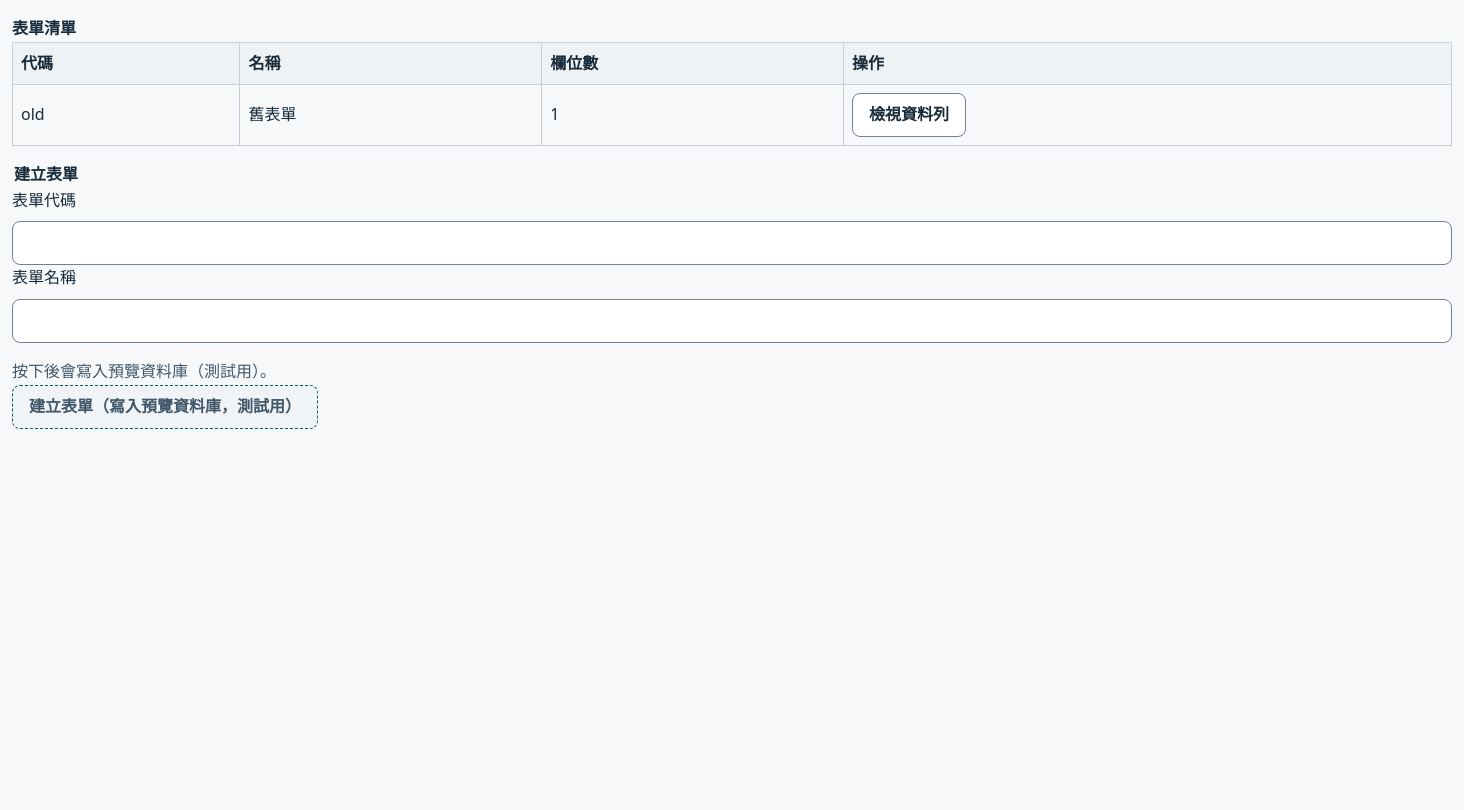
Test: live screens › lists forms, creates one only on the button, and shows its records as plain text
Expected: the text "舊表單" is shown, [240,85,542,146]
Click the button with aria-label "檢視資料列：舊表單": (909, 115) [852,93,966,137]
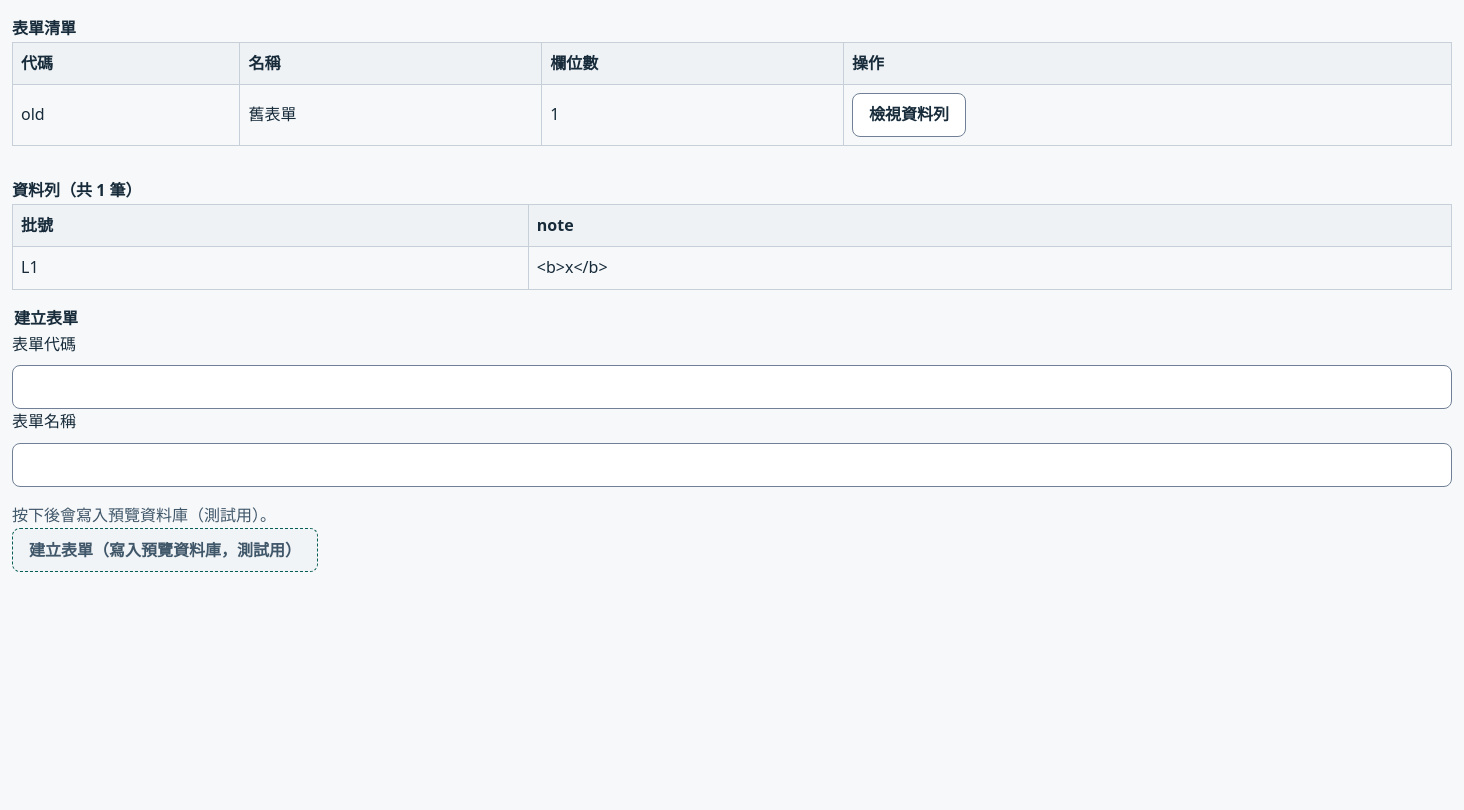
Now the text "<b>x</b>" is shown, box [528,247,1452,290]
In the field labelled "表單代碼": (732, 387) [12,365,1452,409], type "new"
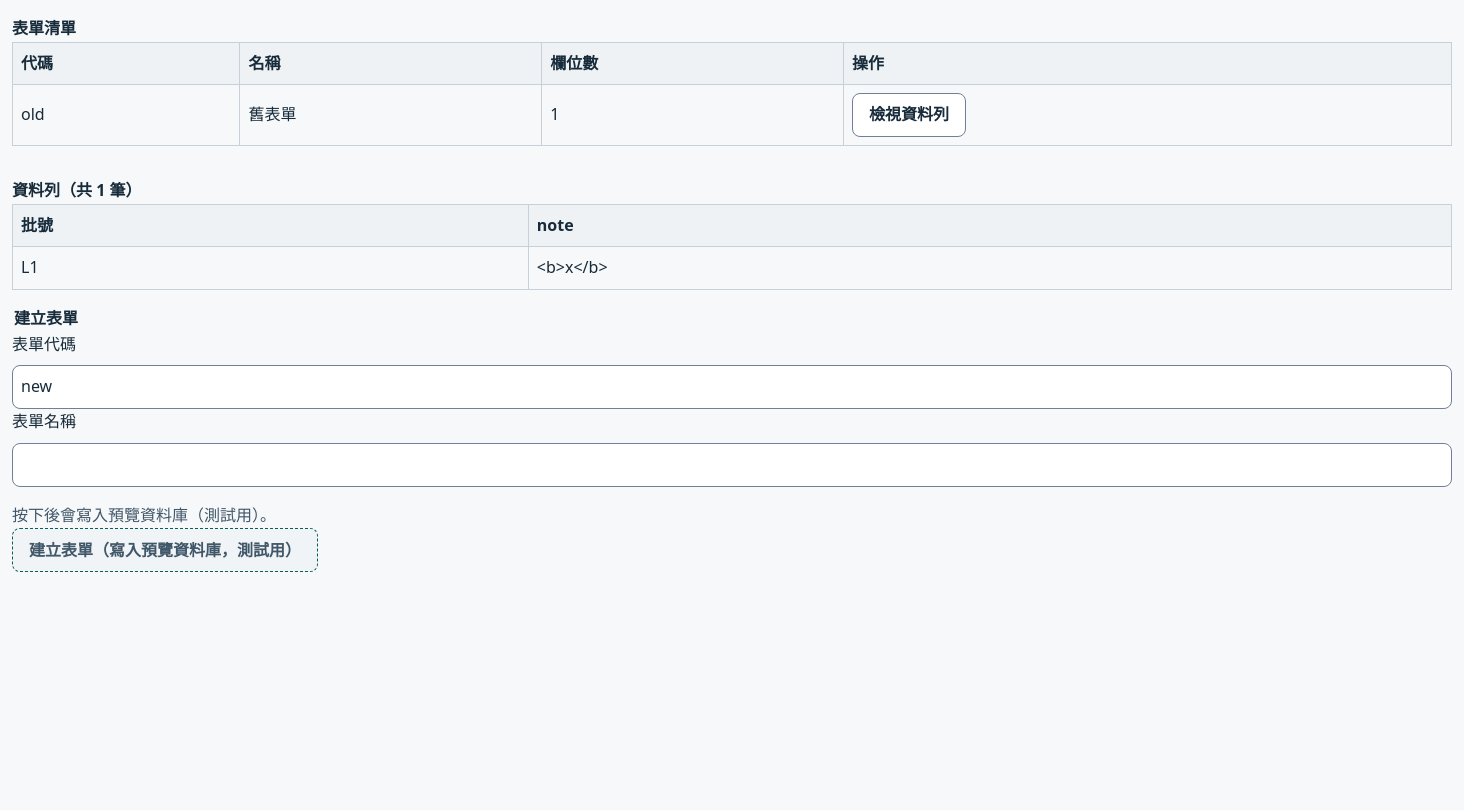
In the field labelled "表單名稱": (732, 465) [12,443,1452,487], type "新表單"
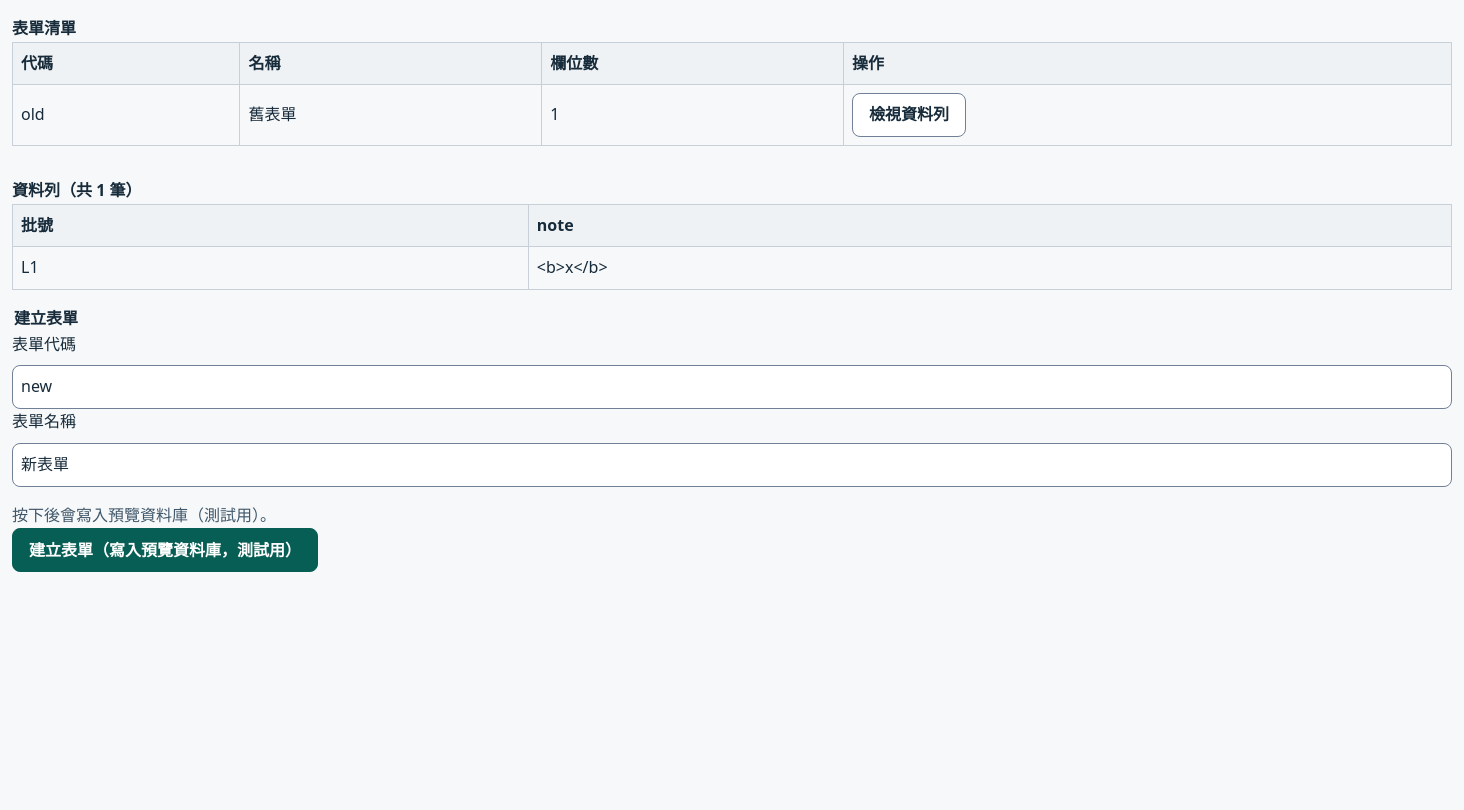
Click the button "建立表單（寫入預覽資料庫，測試用）": (165, 550) [12,528,318,572]
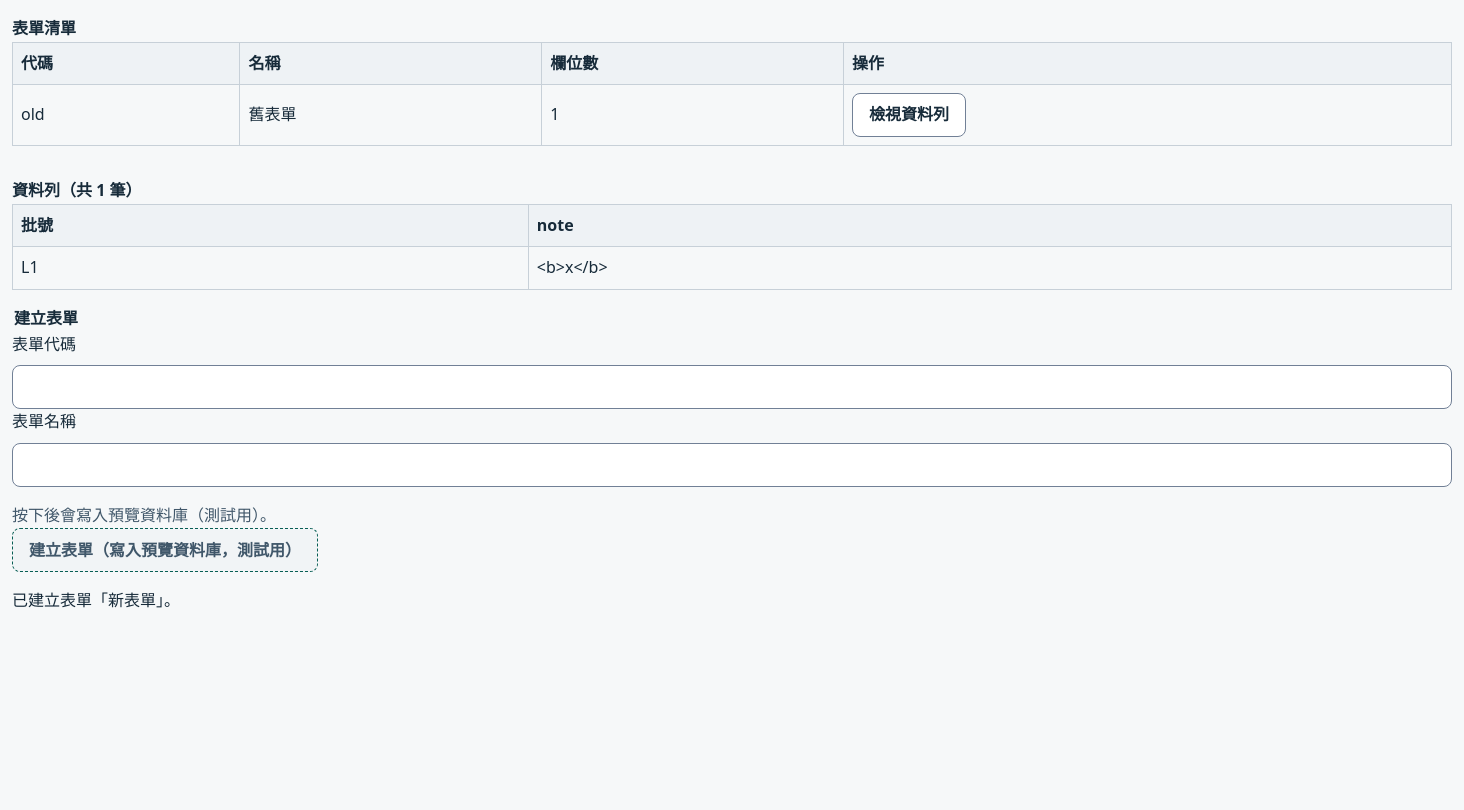
Now the text "已建立表單「新表單」。" is shown, box [12,589,180,611]
